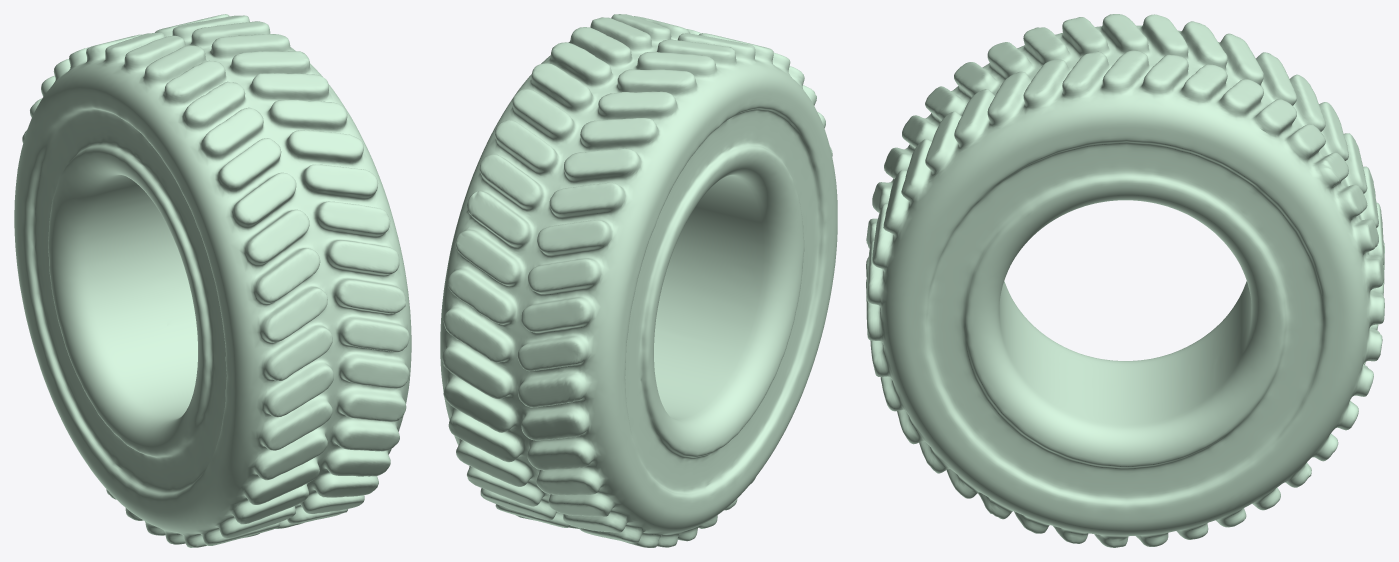
3 renders of one model, left to right at view 1: azimuth 30°, elevation 25°; view 2: azimuth 150°, elevation 25°; view 3: azimuth 270°, elevation 25°, orthographic.
Visible parts, largest first — view 1: shina_1_defaultMat_0; view 2: shina_1_defaultMat_0; view 3: shina_1_defaultMat_0.
Boxes of the visible parts, bbox=[...] form: shina_1_defaultMat_0: bbox=[14, 14, 411, 547]; shina_1_defaultMat_0: bbox=[440, 14, 837, 547]; shina_1_defaultMat_0: bbox=[866, 14, 1384, 547].
Size of the model in its own units: 0.3913 by 0.9995 by 1.
